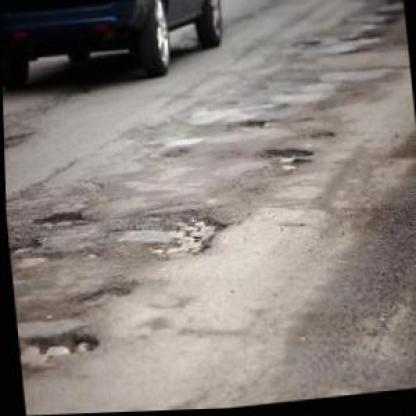pothole: (144, 210, 230, 268), (255, 144, 315, 182), (34, 205, 88, 230), (235, 118, 266, 133)
